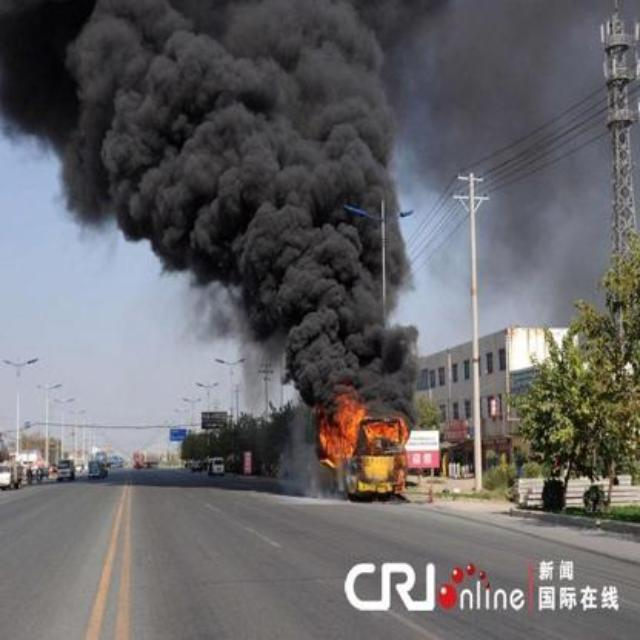Fire: (316, 387, 412, 501)
Smoke: (7, 6, 416, 387), (416, 6, 609, 320)
